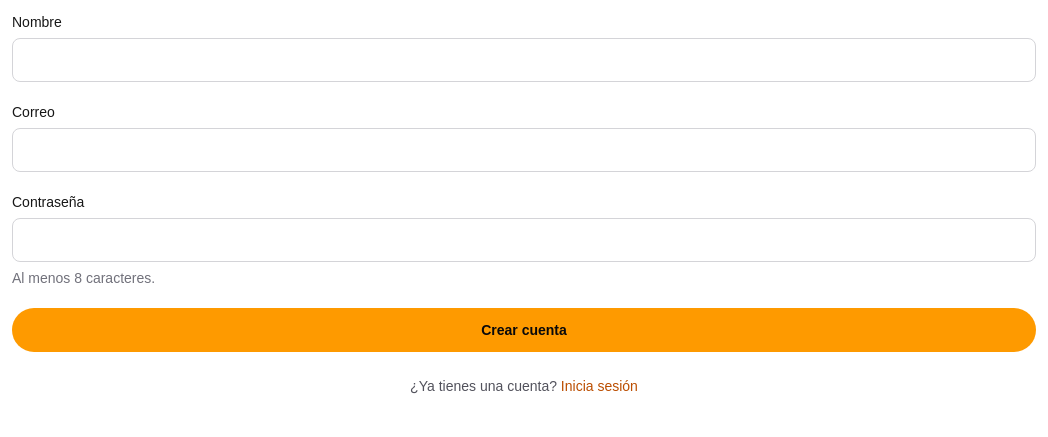
Scenario: FormularioRegistro (HU-03) › si el correo ya tiene cuenta (409), muestra el mensaje de la API en el campo Correo
Step 1. Type "Rosa Quispe Huamán" into the field labelled "Nombre" → (524, 60), box [12,38,1036,82]
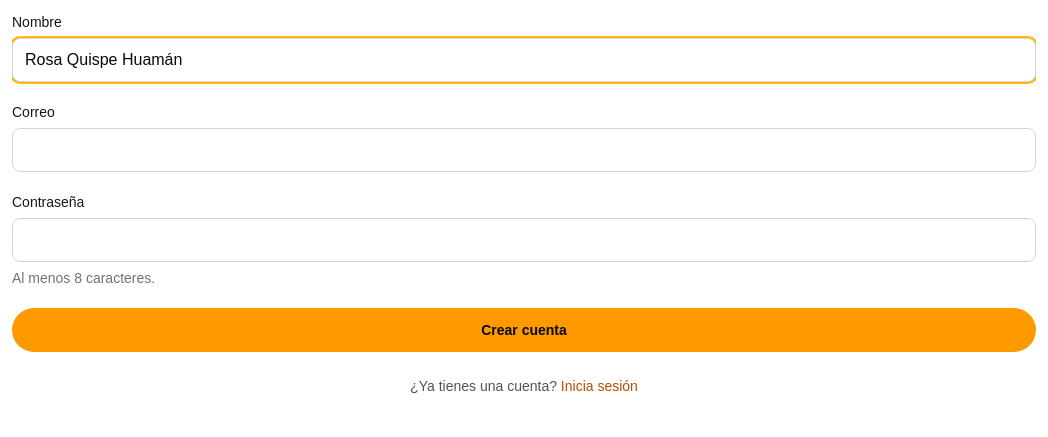
Step 2. Type "rosa.quispe@correo.pe" into the field labelled "Correo" → (524, 150), box [12,128,1036,172]
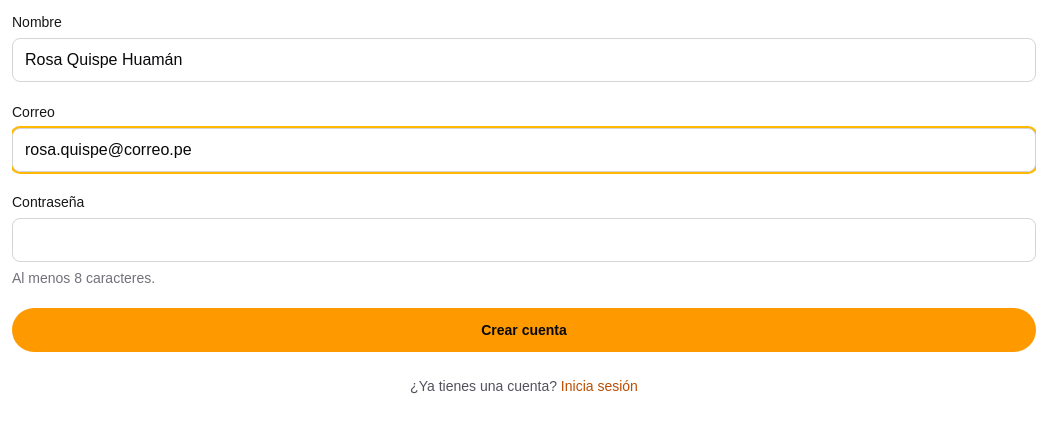
Step 3. Type "Trompo2026" into the password field labelled "Contraseña" → (524, 240), box [12,218,1036,262]
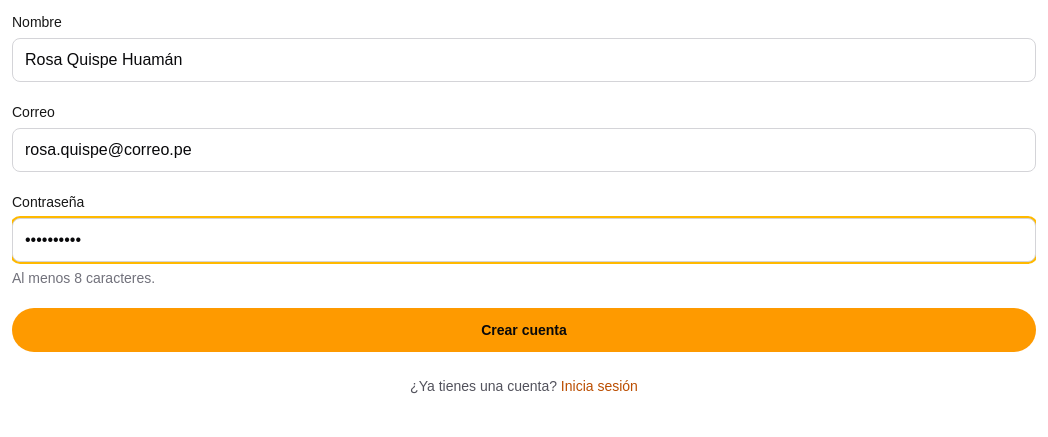
Step 4. Click the button "Crear cuenta" → click(524, 330), box [12,308,1036,352]
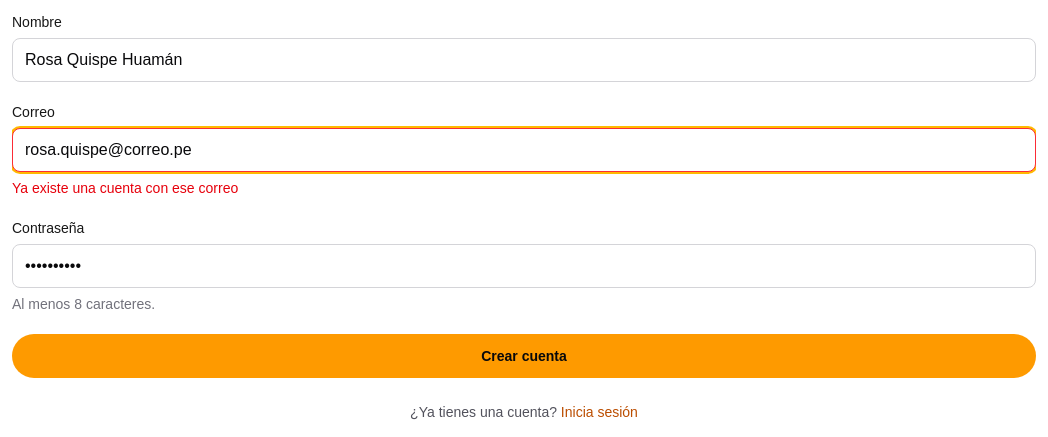
Check: the text "Ya existe una cuenta con ese correo" is shown, box [12,180,238,196]
